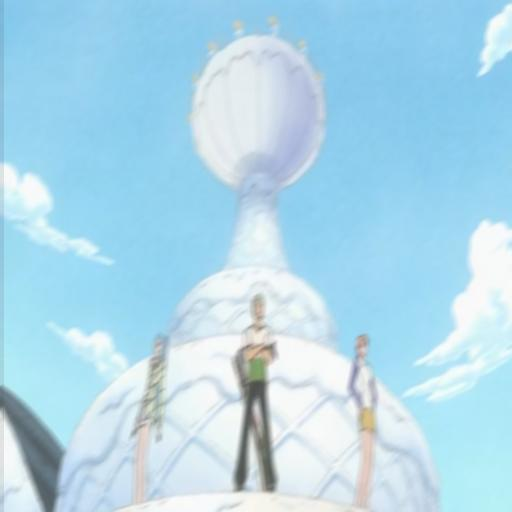Nami: (332, 327, 392, 512)
Zoro: (216, 269, 284, 512)
